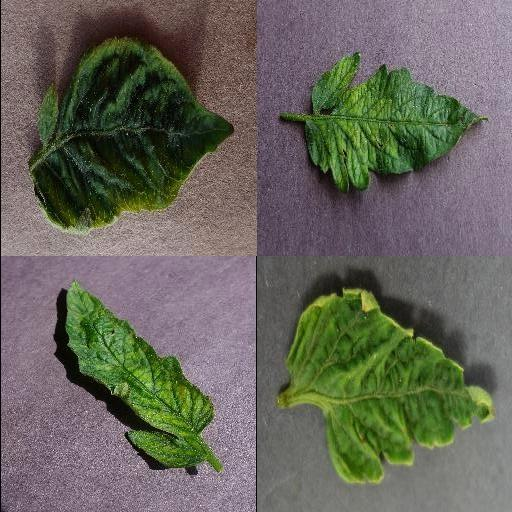Mosaic Virus: (63, 279, 215, 469), (303, 50, 489, 194)
Yellow Leaf Curl Virus: (287, 288, 495, 485), (28, 34, 234, 232)
